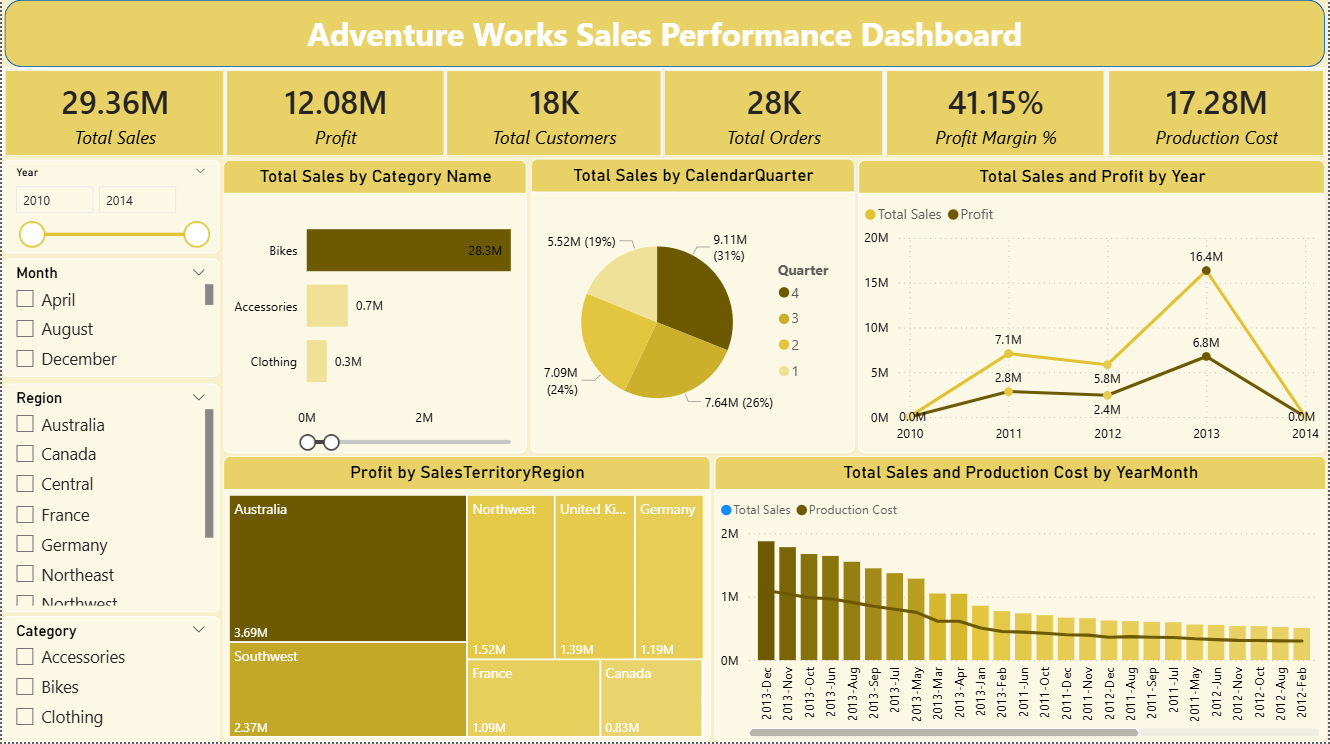

What the dashboard file says about the page in this screenshot:
{"tool":"powerbi","page":{"name":"Page 1","canvas":[1280,720],"ordinal":0},"visuals":[{"type":"shape","box":[2.8,3.9,1274.4,65],"z":0},{"type":"cardVisual","fields":{"Data":["Measures_.Total Orders"]},"box":[636.2,68.8,217.5,88.8],"z":1000},{"type":"cardVisual","fields":{"Data":["Measures_.Production Cost"]},"box":[1065,68.8,213.8,88.8],"z":2000},{"type":"cardVisual","fields":{"Data":["Measures_.Profit Margin %"]},"box":[850,68.8,216.2,88.8],"z":3000},{"type":"cardVisual","fields":{"Data":["Measures_.Total Sales"]},"box":[0,68.8,217.5,88.8],"z":4000},{"type":"cardVisual","fields":{"Data":["Measures_.Total Customers"]},"box":[426.2,68.8,213.8,88.8],"z":5000},{"type":"cardVisual","fields":{"Data":["Measures_.Profit"]},"box":[213.8,68.8,216.2,88.8],"z":6000},{"type":"lineChart","fields":{"Y":["Measures_.Total Sales","Measures_.Profit"],"Category":["DimDate.Year"]},"box":[826.9,157.7,450.8,283.1],"z":7000},{"type":"clusteredBarChart","title":"Total Sales by Category Name","fields":{"Category":["DimProdCategory.EnglishProductCategoryName"],"Y":["Measures_.Total Sales"]},"box":[213.5,157.6,292.9,283.5],"z":8000},{"type":"treemap","fields":{"Group":["DimSalesTerritory.SalesTerritoryRegion"],"Values":["Measures_.Profit"]},"box":[214.1,443.8,470,276.2],"z":9000},{"type":"lineStackedColumnComboChart","fields":{"Category":["DimDate.YearMonth"],"Y":["Measures_.Total Sales"],"Y2":["Measures_.Production Cost"]},"box":[687.6,443.8,590,276.2],"z":10000},{"type":"pieChart","fields":{"Category":["DimDate.CalendarQuarter"],"Y":["Measures_.Total Sales"]},"box":[510.5,157.4,312.6,283.7],"z":11000},{"type":"slicer","fields":{"Values":["DimProdCategory.EnglishProductCategoryName"]},"box":[0,598.5,210,121.5],"z":12000},{"type":"slicer","fields":{"Values":["DimSalesTerritory.SalesTerritoryRegion"]},"box":[0,373.6,210,220.7],"z":13000},{"type":"slicer","fields":{"Values":["DimDate.Year"]},"box":[0,158.2,210,90],"z":14000},{"type":"slicer","fields":{"Values":["DimDate.EnglishMonthName"]},"box":[0,252.9,210,114.3],"z":14001}]}

Visuals, with their boxes in screenshot pixels (x1, y1, x2, y2), scaled from the page's 1280x720 canvas onto the 1330x744 screenshot:
shape: bbox=[3, 4, 1327, 71]
cardVisual - Measures_.Total Orders: bbox=[661, 71, 887, 163]
cardVisual - Measures_.Production Cost: bbox=[1107, 71, 1329, 163]
cardVisual - Measures_.Profit Margin %: bbox=[883, 71, 1108, 163]
cardVisual - Measures_.Total Sales: bbox=[0, 71, 226, 163]
cardVisual - Measures_.Total Customers: bbox=[443, 71, 665, 163]
cardVisual - Measures_.Profit: bbox=[222, 71, 447, 163]
lineChart - Measures_.Total Sales x Measures_.Profit: bbox=[859, 163, 1328, 455]
"Total Sales by Category Name" clusteredBarChart: bbox=[222, 163, 526, 456]
treemap - DimSalesTerritory.SalesTerritoryRegion x Measures_.Profit: bbox=[222, 459, 711, 743]
lineStackedColumnComboChart - DimDate.YearMonth x Measures_.Total Sales: bbox=[714, 459, 1328, 743]
pieChart - DimDate.CalendarQuarter x Measures_.Total Sales: bbox=[530, 163, 855, 456]
slicer - DimProdCategory.EnglishProductCategoryName: bbox=[0, 618, 218, 743]
slicer - DimSalesTerritory.SalesTerritoryRegion: bbox=[0, 386, 218, 614]
slicer - DimDate.Year: bbox=[0, 163, 218, 256]
slicer - DimDate.EnglishMonthName: bbox=[0, 261, 218, 379]
